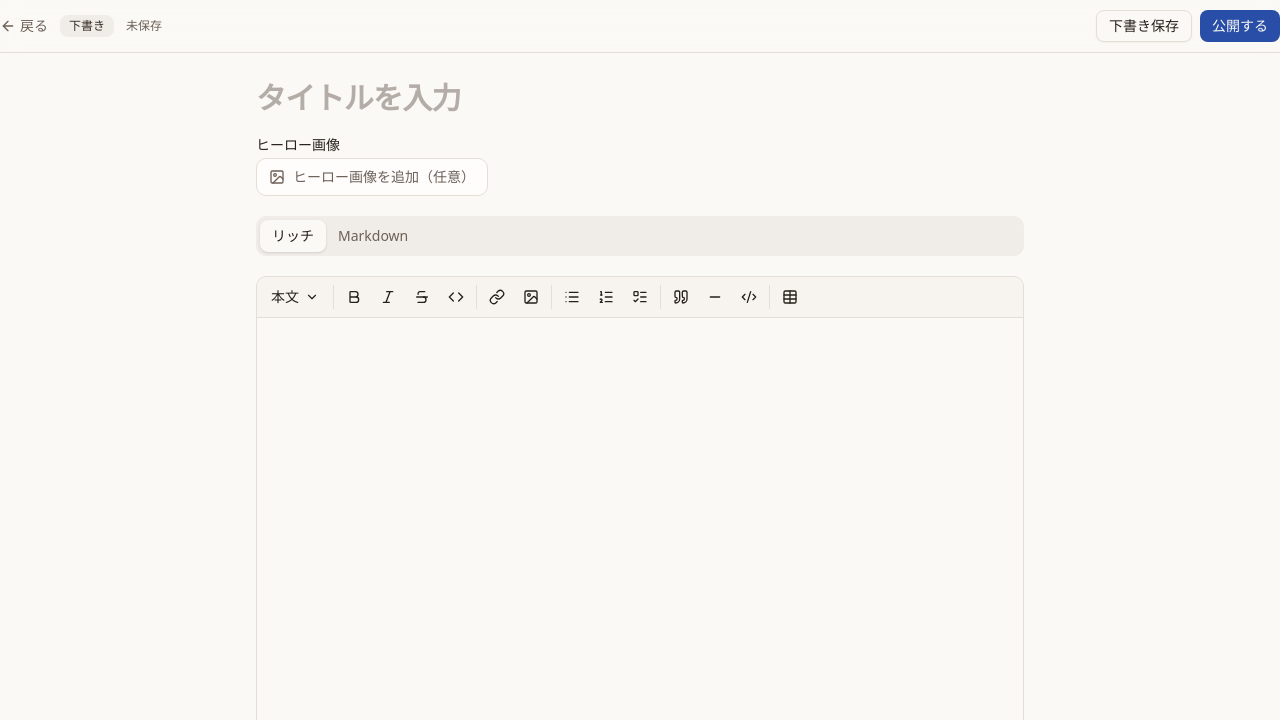
Test: EditorPage › 公開パネルはカテゴリ未選択だと公開実行ボタンが無効
Type "あたらしい記事" into the field labelled "タイトル" at (640, 98), box [256,77,1024,118]
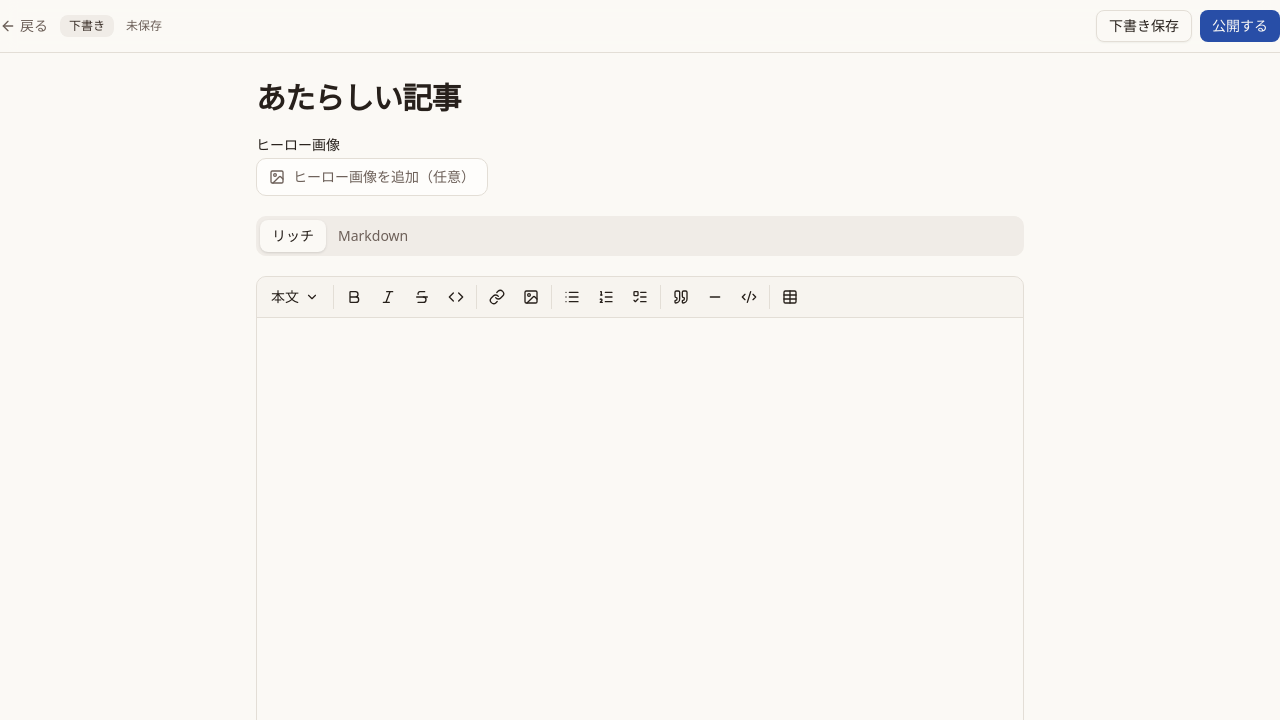
Click the button "公開する" at (1240, 26), box [1200,10,1279,42]
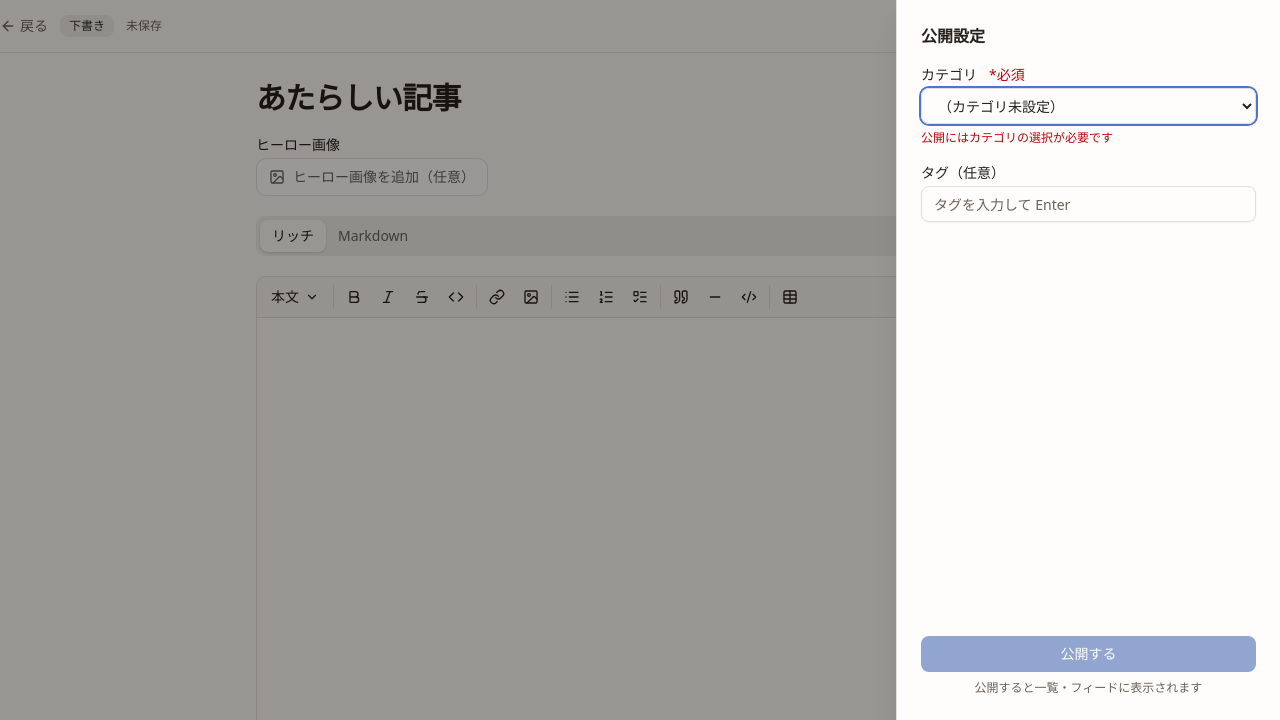
Expected: the button "公開する" is disabled, [921,636,1256,672]
Expected: the text "公開にはカテゴリの選択が必要です" is shown, [921,129,1113,146]
